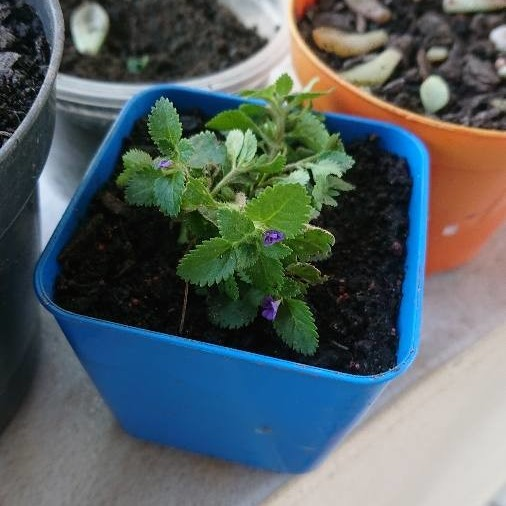obstacle: (33, 71, 446, 461)
